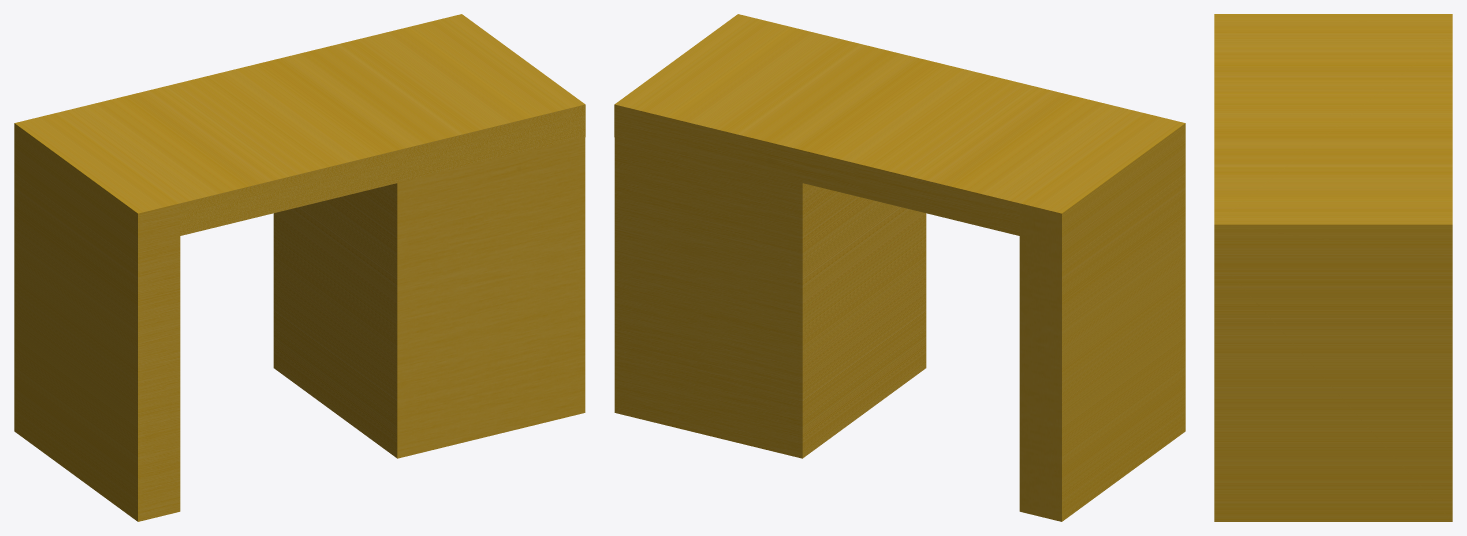
Rendered from MesaMadera.obj.
The picture shows the model from 3 angles, left to right: view 1: azimuth 30°, elevation 25°; view 2: azimuth 150°, elevation 25°; view 3: azimuth 270°, elevation 25°; orthographic projection. The views are drawn at different scales.
Visible parts, largest first — view 1: oak_lab:oak_lab8:oak_lab:oak_lab8:pCube41; view 2: oak_lab:oak_lab8:oak_lab:oak_lab8:pCube41; view 3: oak_lab:oak_lab8:oak_lab:oak_lab8:pCube41.
Boxes of the visible parts, box(x1,y1,x2,y2) form: oak_lab:oak_lab8:oak_lab:oak_lab8:pCube41: box(14, 14, 585, 521); oak_lab:oak_lab8:oak_lab:oak_lab8:pCube41: box(614, 14, 1185, 521); oak_lab:oak_lab8:oak_lab:oak_lab8:pCube41: box(1214, 14, 1452, 521).
Bounding box in the file's own units: 5.54 × 3.65 × 2.65.
4 materials, 3 textured.
